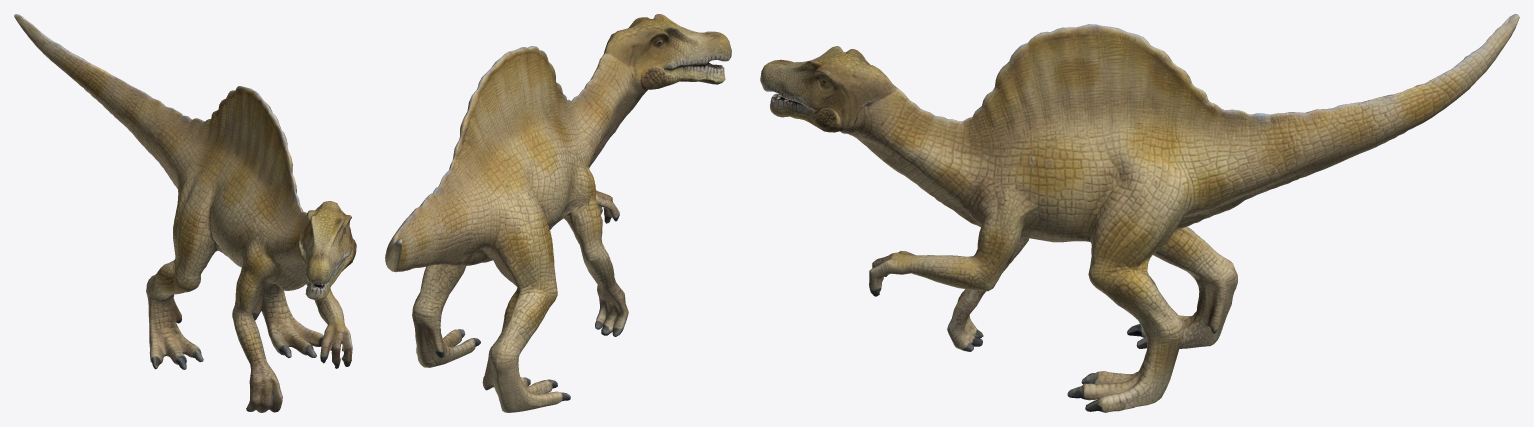
File: Schleich_Spinosaurus_Action_Figure.glb
3 views of the same model, side by side, from view 1: azimuth 30°, elevation 25°; view 2: azimuth 150°, elevation 25°; view 3: azimuth 270°, elevation 25° (orthographic). The views are drawn at different scales.
Visible parts, largest first — view 1: model.obj; view 2: model.obj; view 3: model.obj.
Part boxes in pixels (x1=…): model.obj: x1=14, y1=14, x2=356, y2=412; model.obj: x1=385, y1=14, x2=731, y2=412; model.obj: x1=760, y1=14, x2=1519, y2=412.
Bounding box in the file's own units: 0.291 × 0.5056 × 1.
Materials: 1 (1 with a texture image).
